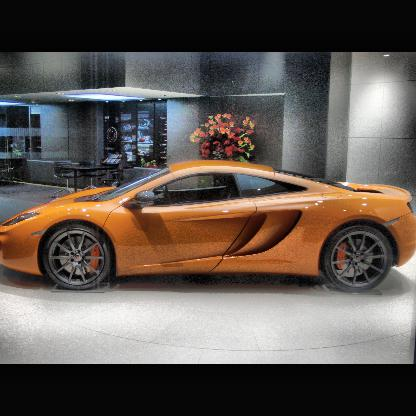McLaren MP4-12C Coupe 2012: (2, 159, 416, 295)
